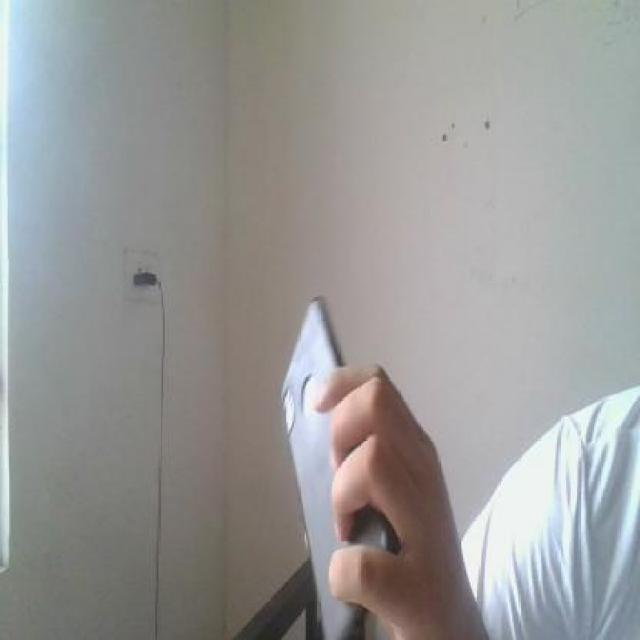Phone: (276, 294, 394, 640)
